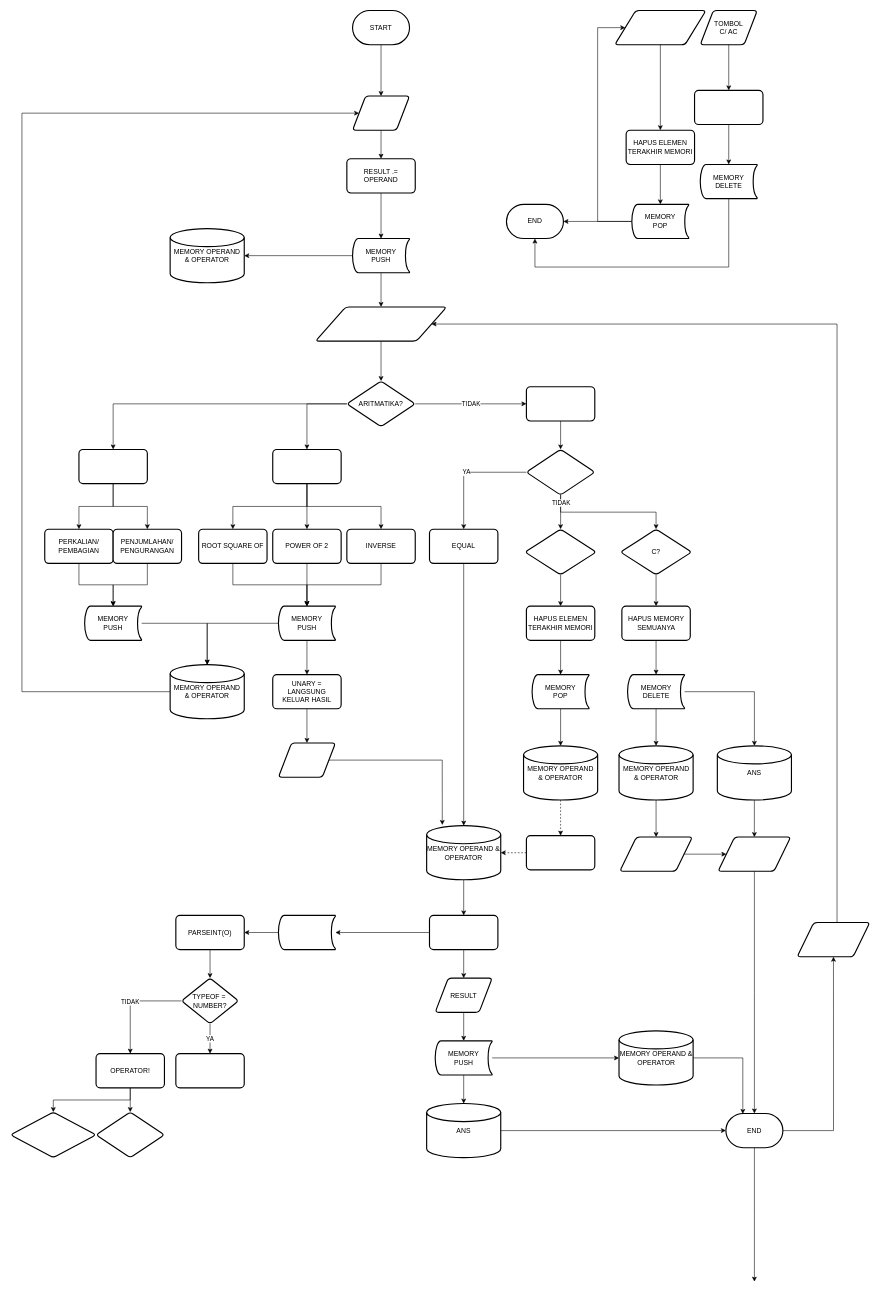
Some shapes in this 880 by 1296 pixel diagram are drawn without their labels. Each missing label, with the centre of its shape:
ANS = 0: [754,854]
ASSIGNMENT: [560,403]
BACK SPACE?: [560,551]
BINARY: [113,466]
EQUAL?: [560,472]
HAPUS SEMUA ELEMEN MEMORI: [728,107]
MEMORY SCAN ELEMENTS: [307,932]
OPERAND PERTAMA: [381,113]
OPERAND!: [210,1070]
OPERASI DALAM MEMORY STACK: [463,932]
OPERASI TETAP DIHITUNG: [560,852]
OPERATOR: [381,323]
PENJUMLAHAN/ PENGURANGAN?: [53,1134]
PERKALIAN/ PEMBAGIAN?: [130,1134]
RESULT = (1/N): [307,759]
RESULT = 0: [656,854]
RESULT = ANS: [833,939]
TOMBOL BACKSPACE: [660,27]
UNARY: [306,466]
